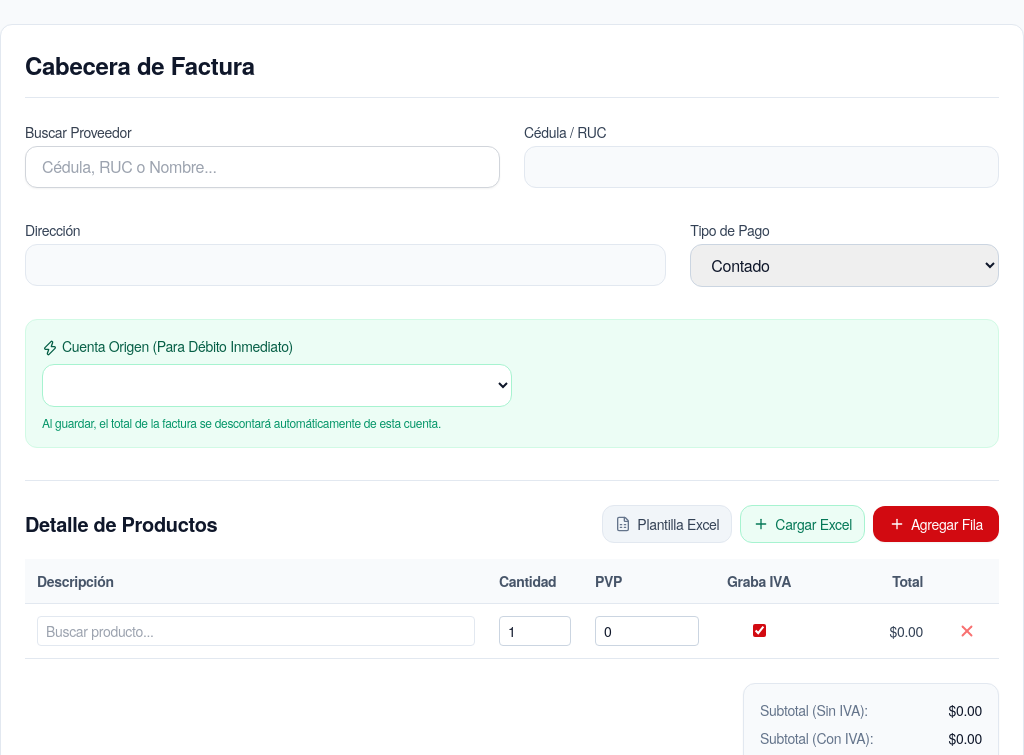
Test case: FacturaForm DOM Mutations › agrega y elimina líneas de productos correctamente
expect the row with test id "product-row-0" is shown: met, box [25, 604, 999, 659]
Click the button with test id "add-product-btn" at (936, 524), box [873, 506, 999, 542]
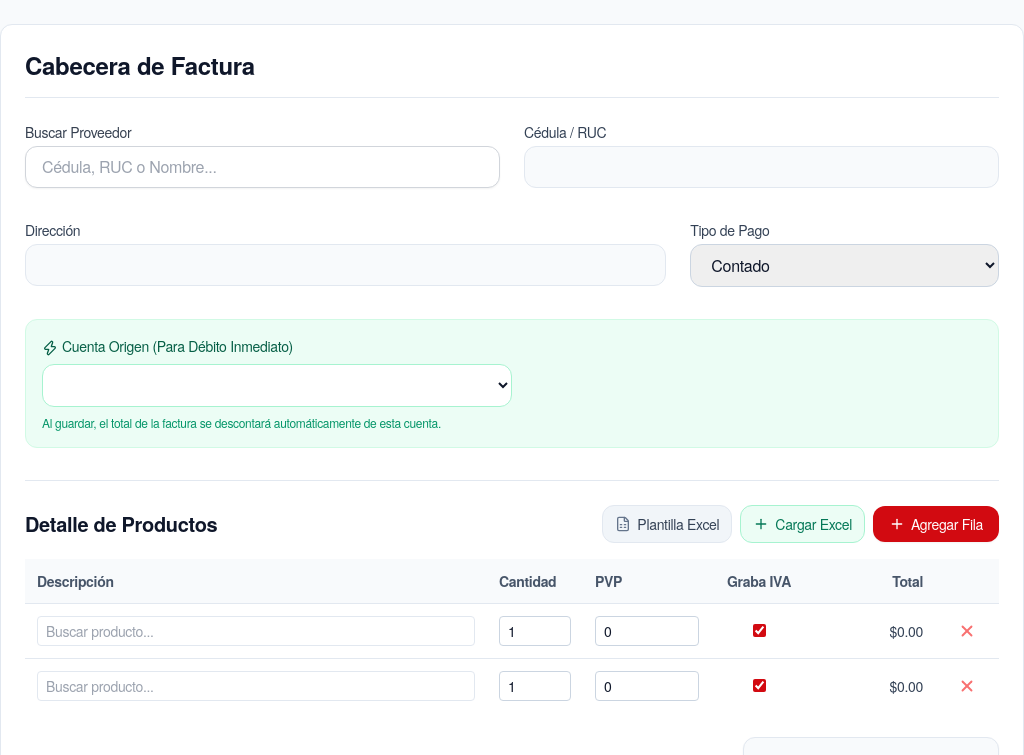
expect the row with test id "product-row-0" is shown: met, box [25, 604, 999, 659]
expect the row with test id "product-row-1" is shown: met, box [25, 659, 999, 713]
Click the button with test id "remove-0" at (967, 631), box [954, 618, 980, 644]
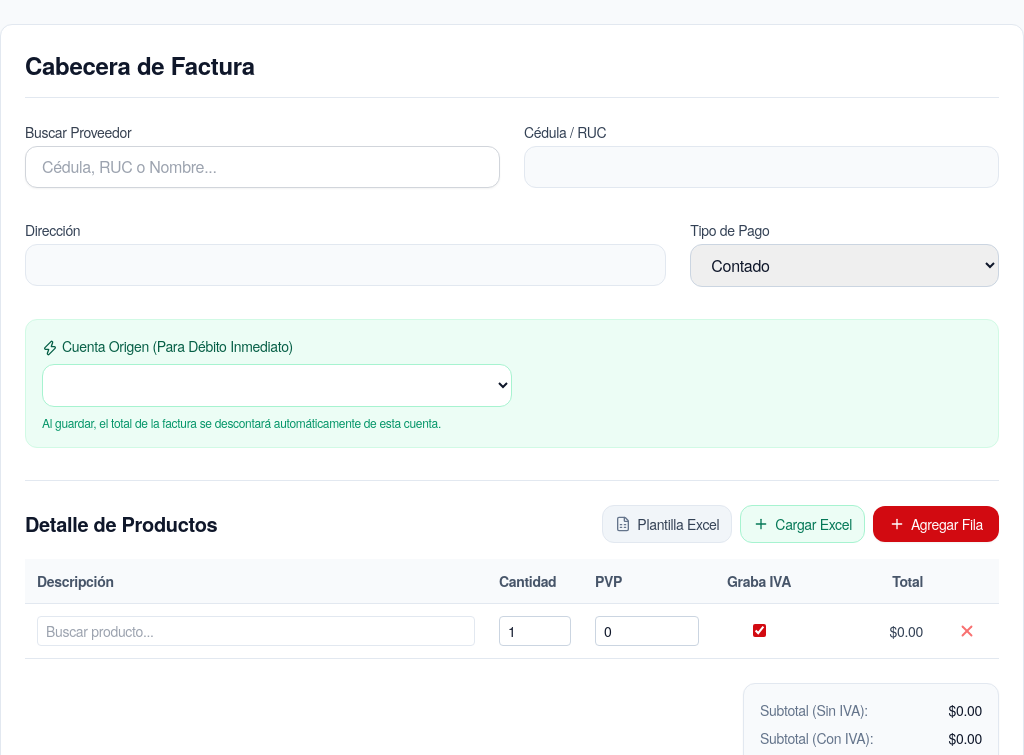
expect the row with test id "product-row-0" is shown: met, box [25, 604, 999, 659]
expect the row with test id "product-row-1" is gone: met
